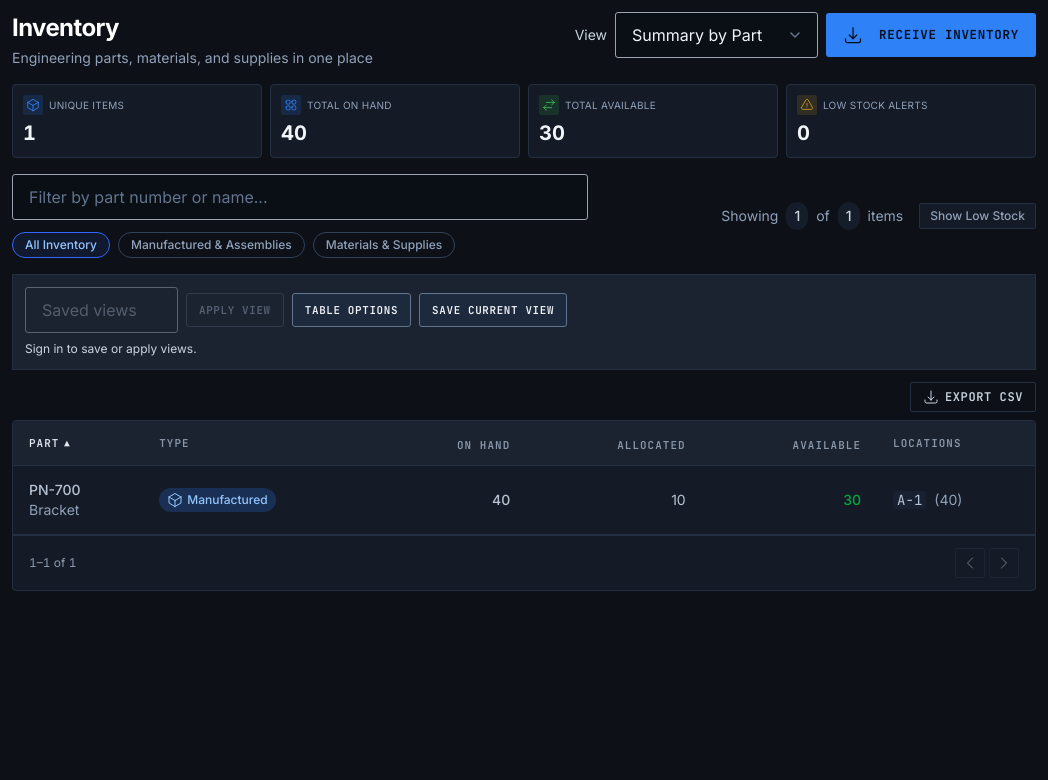
Test case: supervisor sees the Receive button and the per-row Transfer action
Expected: the button "Receive Inventory" is shown, [826,13,1036,57]
Step 1. Select "Detail by Location" in the dropdown named "Inventory view" → x=717, y=35, box [615,12,818,58]
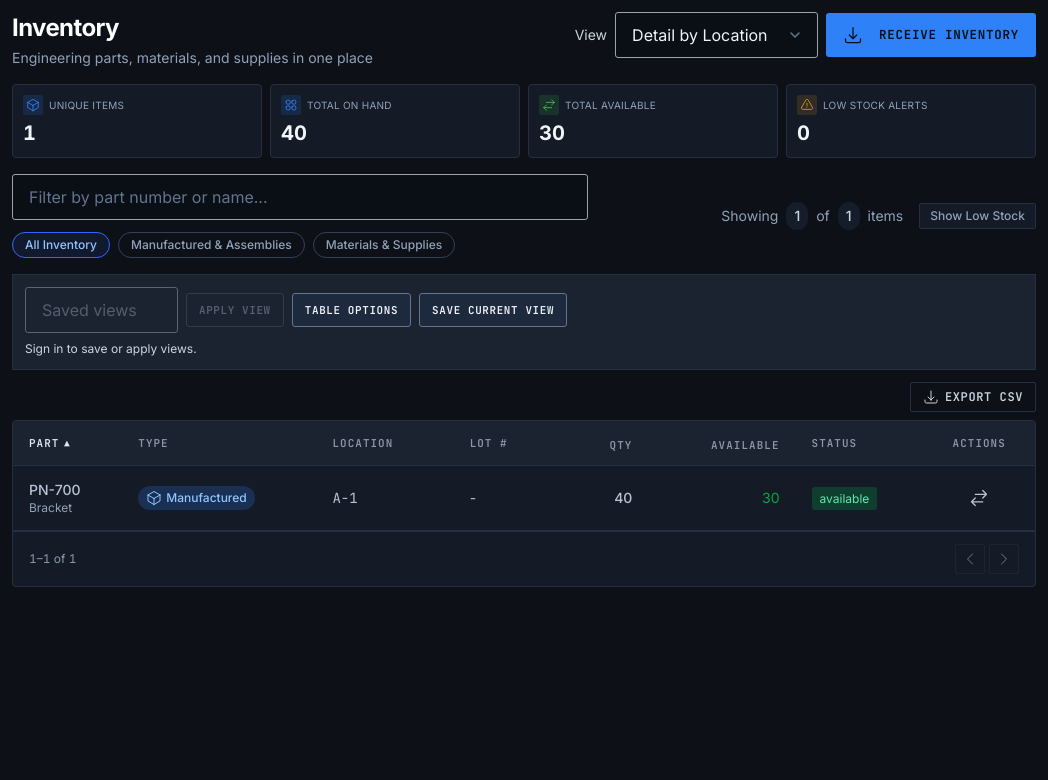
Now the column heading "Actions" is shown, box [923,421,1035,466]
Now the button named "Transfer inventory" is shown, box [969,488,989,508]
Now the number of buttons named "Transfer inventory" is 2
